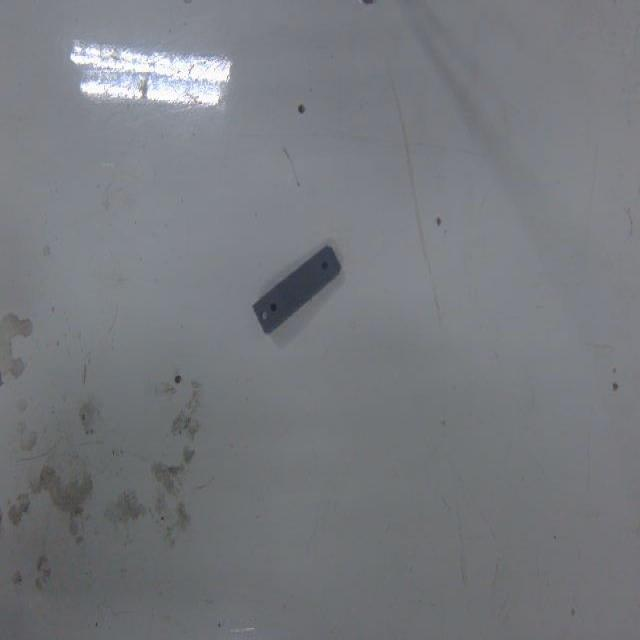grey: (251, 242, 344, 342)
head: (320, 260, 330, 272)
